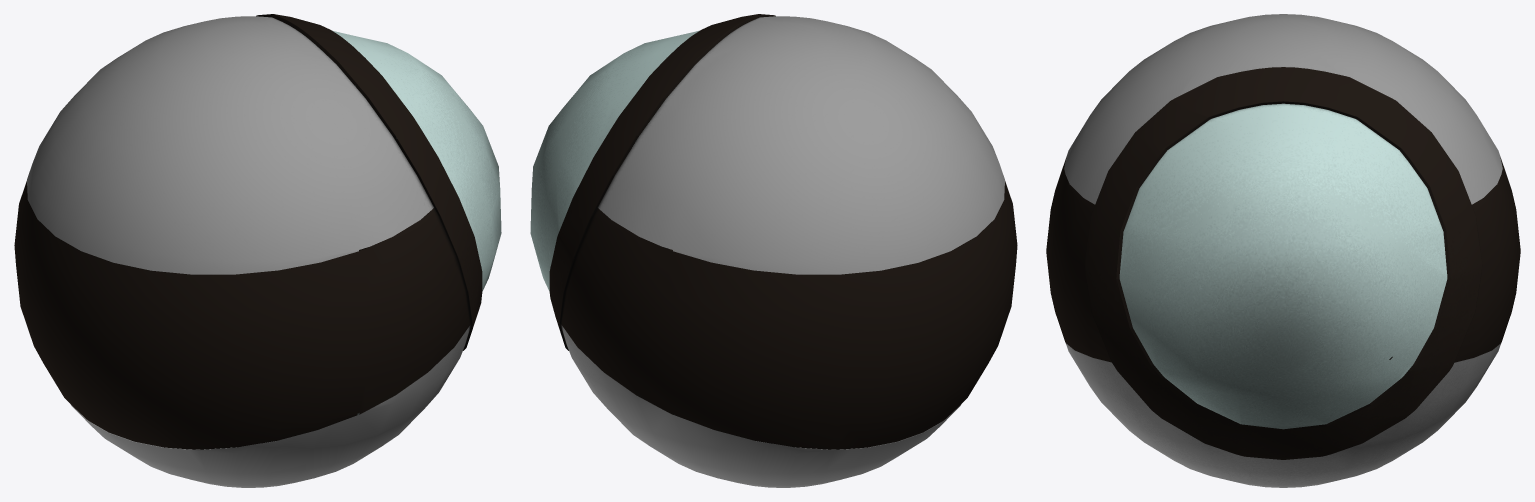
File: Pod.FBX
3 renders of one model, left to right at view 1: azimuth 30°, elevation 25°; view 2: azimuth 150°, elevation 25°; view 3: azimuth 270°, elevation 25°, orthographic.
Parts seen in each view (by area): view 1: Pod; view 2: Pod; view 3: Pod.
Boxes of the visible parts, bbox=[...] form: Pod: bbox=[14, 14, 501, 487]; Pod: bbox=[530, 14, 1017, 487]; Pod: bbox=[1046, 14, 1520, 487].
Bounding box in the file's own units: 161 × 150 × 150.
1 material, 1 textured.
